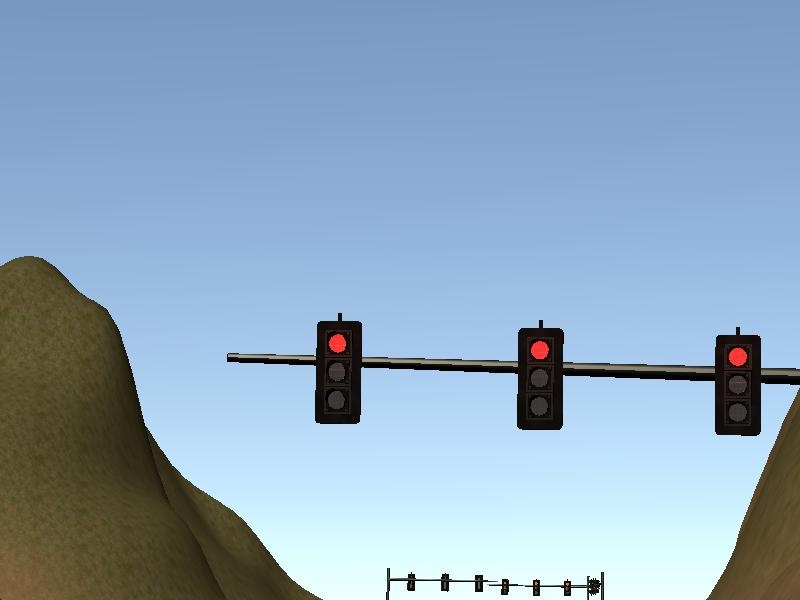RED: (316, 321, 360, 424), (518, 327, 562, 430), (716, 334, 760, 437)
